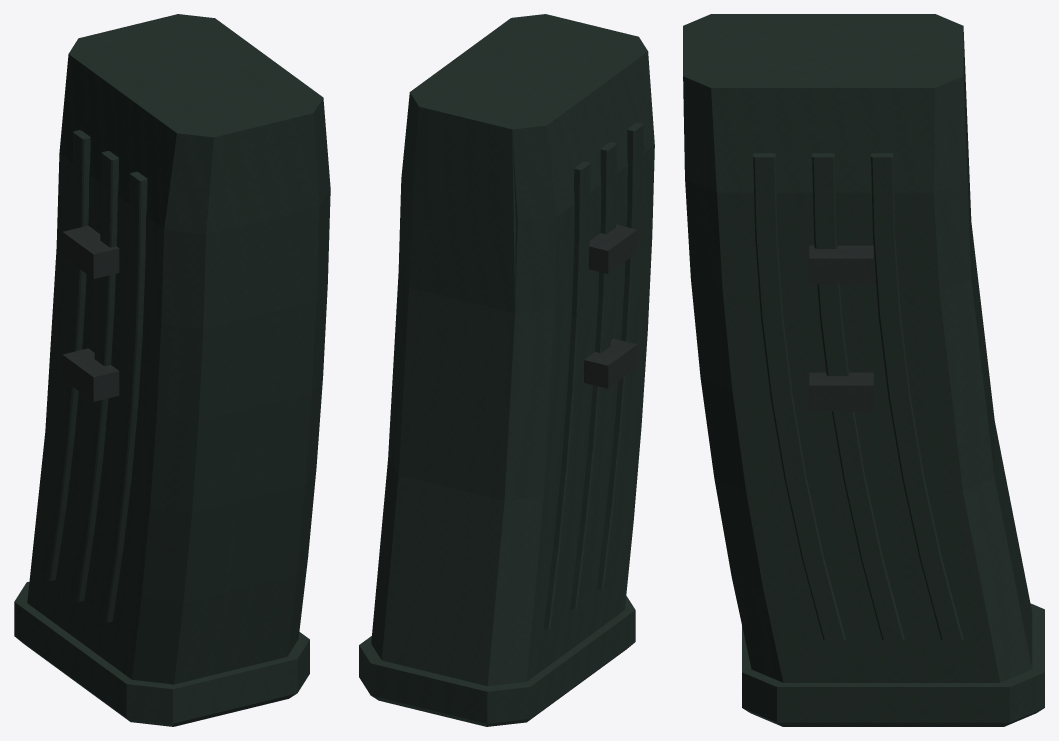
3 renders of one model, left to right at view 1: azimuth 30°, elevation 25°; view 2: azimuth 150°, elevation 25°; view 3: azimuth 270°, elevation 25°, orthographic. The views are drawn at different scales.
Parts seen in each view (by area): view 1: g36_20_individual_shell, g36_20_individual_shell.001, g36_20_coupling_lug; view 2: g36_20_individual_shell.001, g36_20_individual_shell, g36_20_coupling_lug; view 3: g36_20_individual_shell, g36_20_individual_shell.001, g36_20_coupling_lug.
Boxes of the visible parts, left/top/right/bottom form: g36_20_individual_shell: left=14, top=14, right=330, bottom=726; g36_20_individual_shell.001: left=27, top=249, right=161, bottom=676; g36_20_coupling_lug: left=62, top=225, right=119, bottom=401; g36_20_individual_shell.001: left=371, top=106, right=651, bottom=686; g36_20_individual_shell: left=359, top=14, right=654, bottom=726; g36_20_coupling_lug: left=584, top=224, right=637, bottom=388; g36_20_individual_shell: left=683, top=14, right=1044, bottom=726; g36_20_individual_shell.001: left=723, top=32, right=1032, bottom=682; g36_20_coupling_lug: left=809, top=245, right=873, bottom=411.
Size of the model in its own units: 0.093 by 0.249 by 0.129.
Materials: 2 (2 with a texture image).
